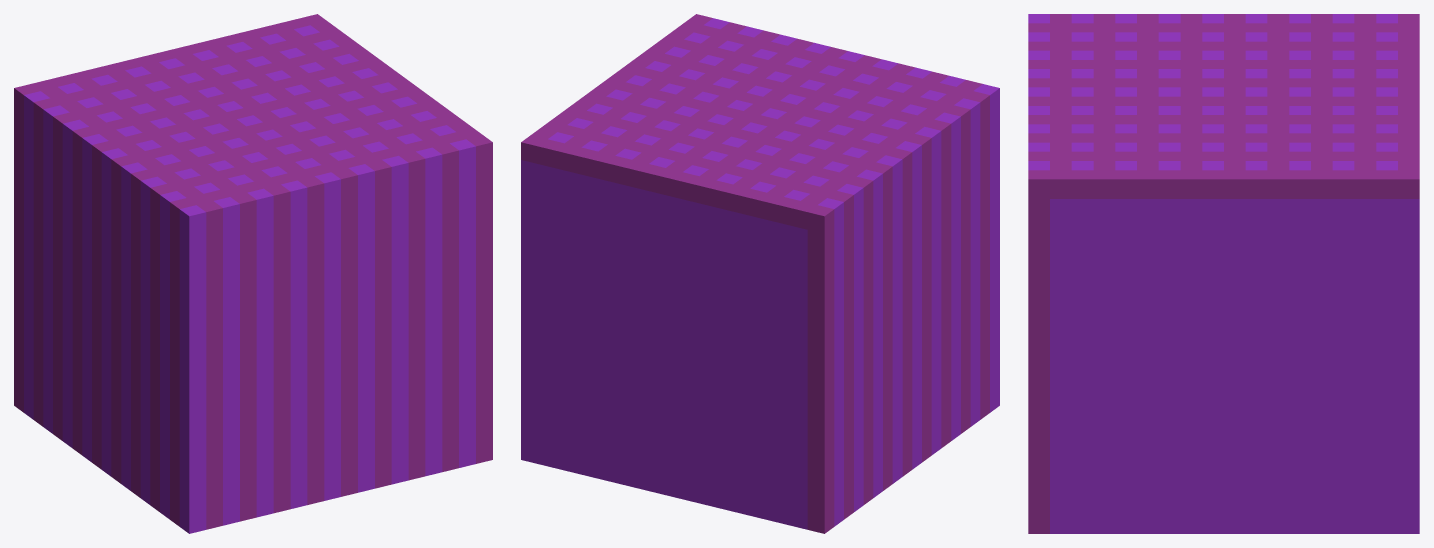
The model's file is floor_2.obj.
3 renders of one model, left to right at view 1: azimuth 30°, elevation 25°; view 2: azimuth 150°, elevation 25°; view 3: azimuth 270°, elevation 25°, orthographic. The views are drawn at different scales.
Bounding box in the file's own units: 1.8 × 1.8 × 1.8.
1 material, 1 textured.
